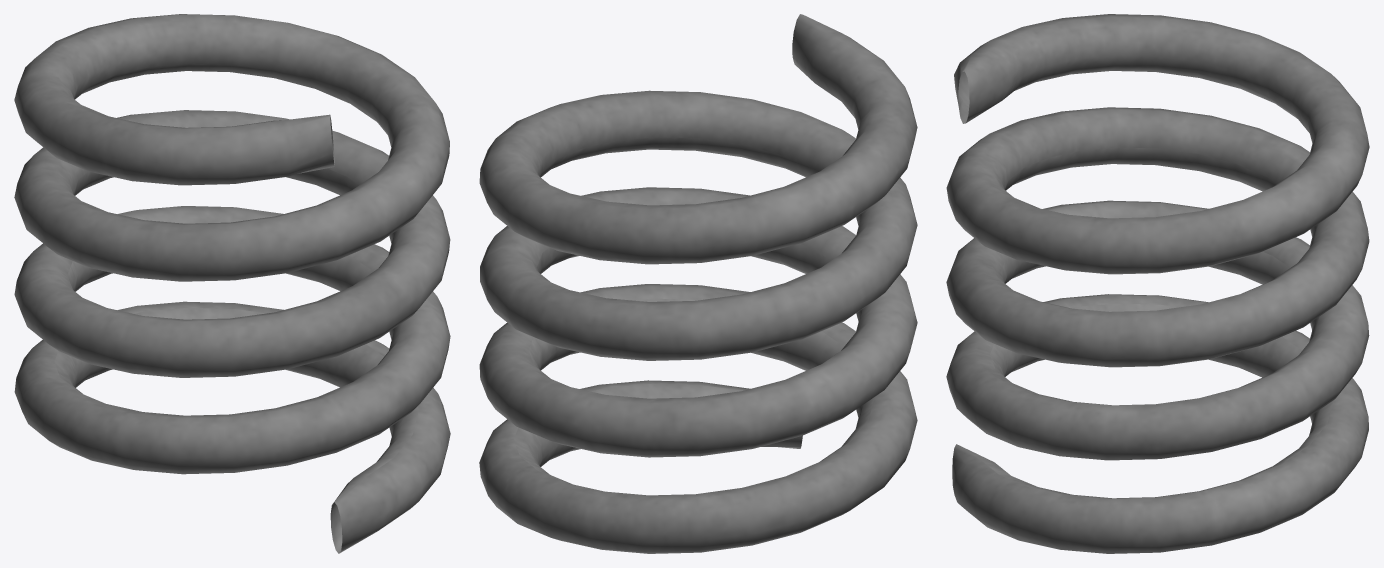
Rendered from pegasKatup.glb.
3 renders of one model, left to right at view 1: azimuth 30°, elevation 25°; view 2: azimuth 150°, elevation 25°; view 3: azimuth 270°, elevation 25°, orthographic. The views are drawn at different scales.
Visible parts, largest first — view 1: PegasKatup; view 2: PegasKatup; view 3: PegasKatup.
Part boxes in pixels (box(x1,y1,x2,y2)): PegasKatup: box(14, 14, 450, 553); PegasKatup: box(479, 14, 917, 553); PegasKatup: box(946, 14, 1369, 553).
Size of the model in its own units: 0.2079 by 0.2298 by 0.2079.
Materials: 1 (1 with a texture image).
